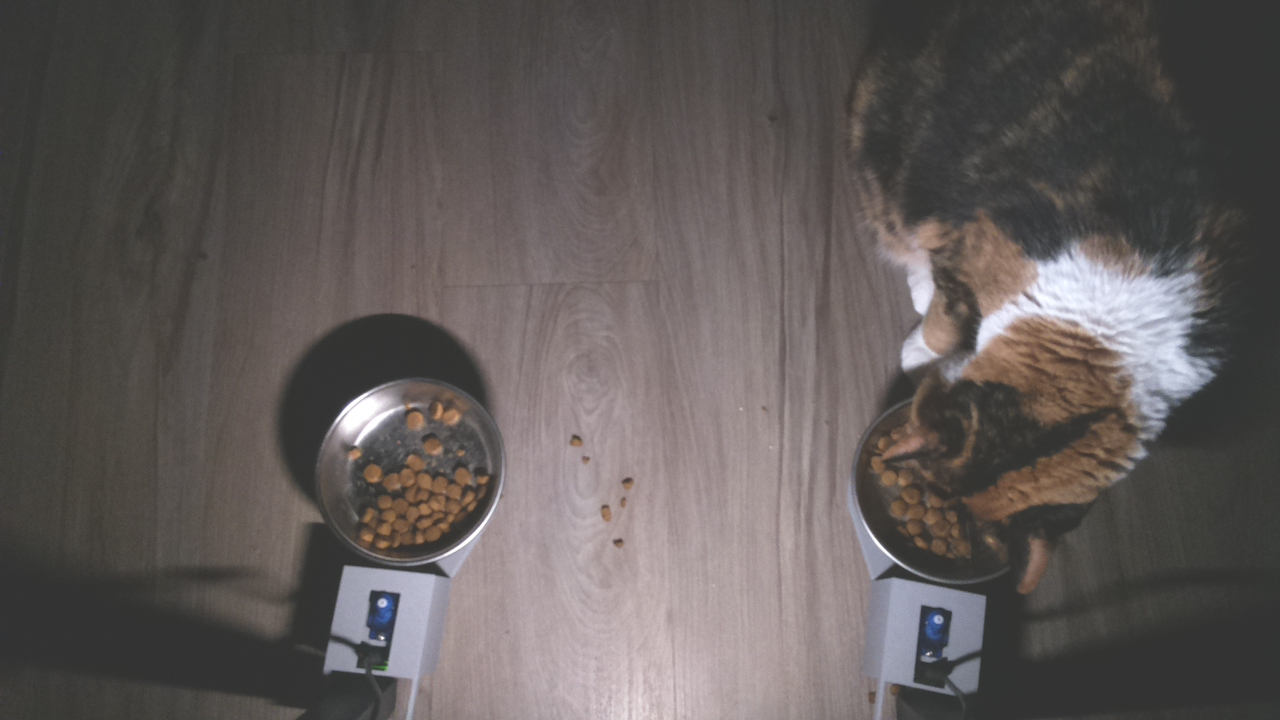bella_eating: (851, 305, 1127, 611)
open_bowl: (314, 373, 509, 575)
